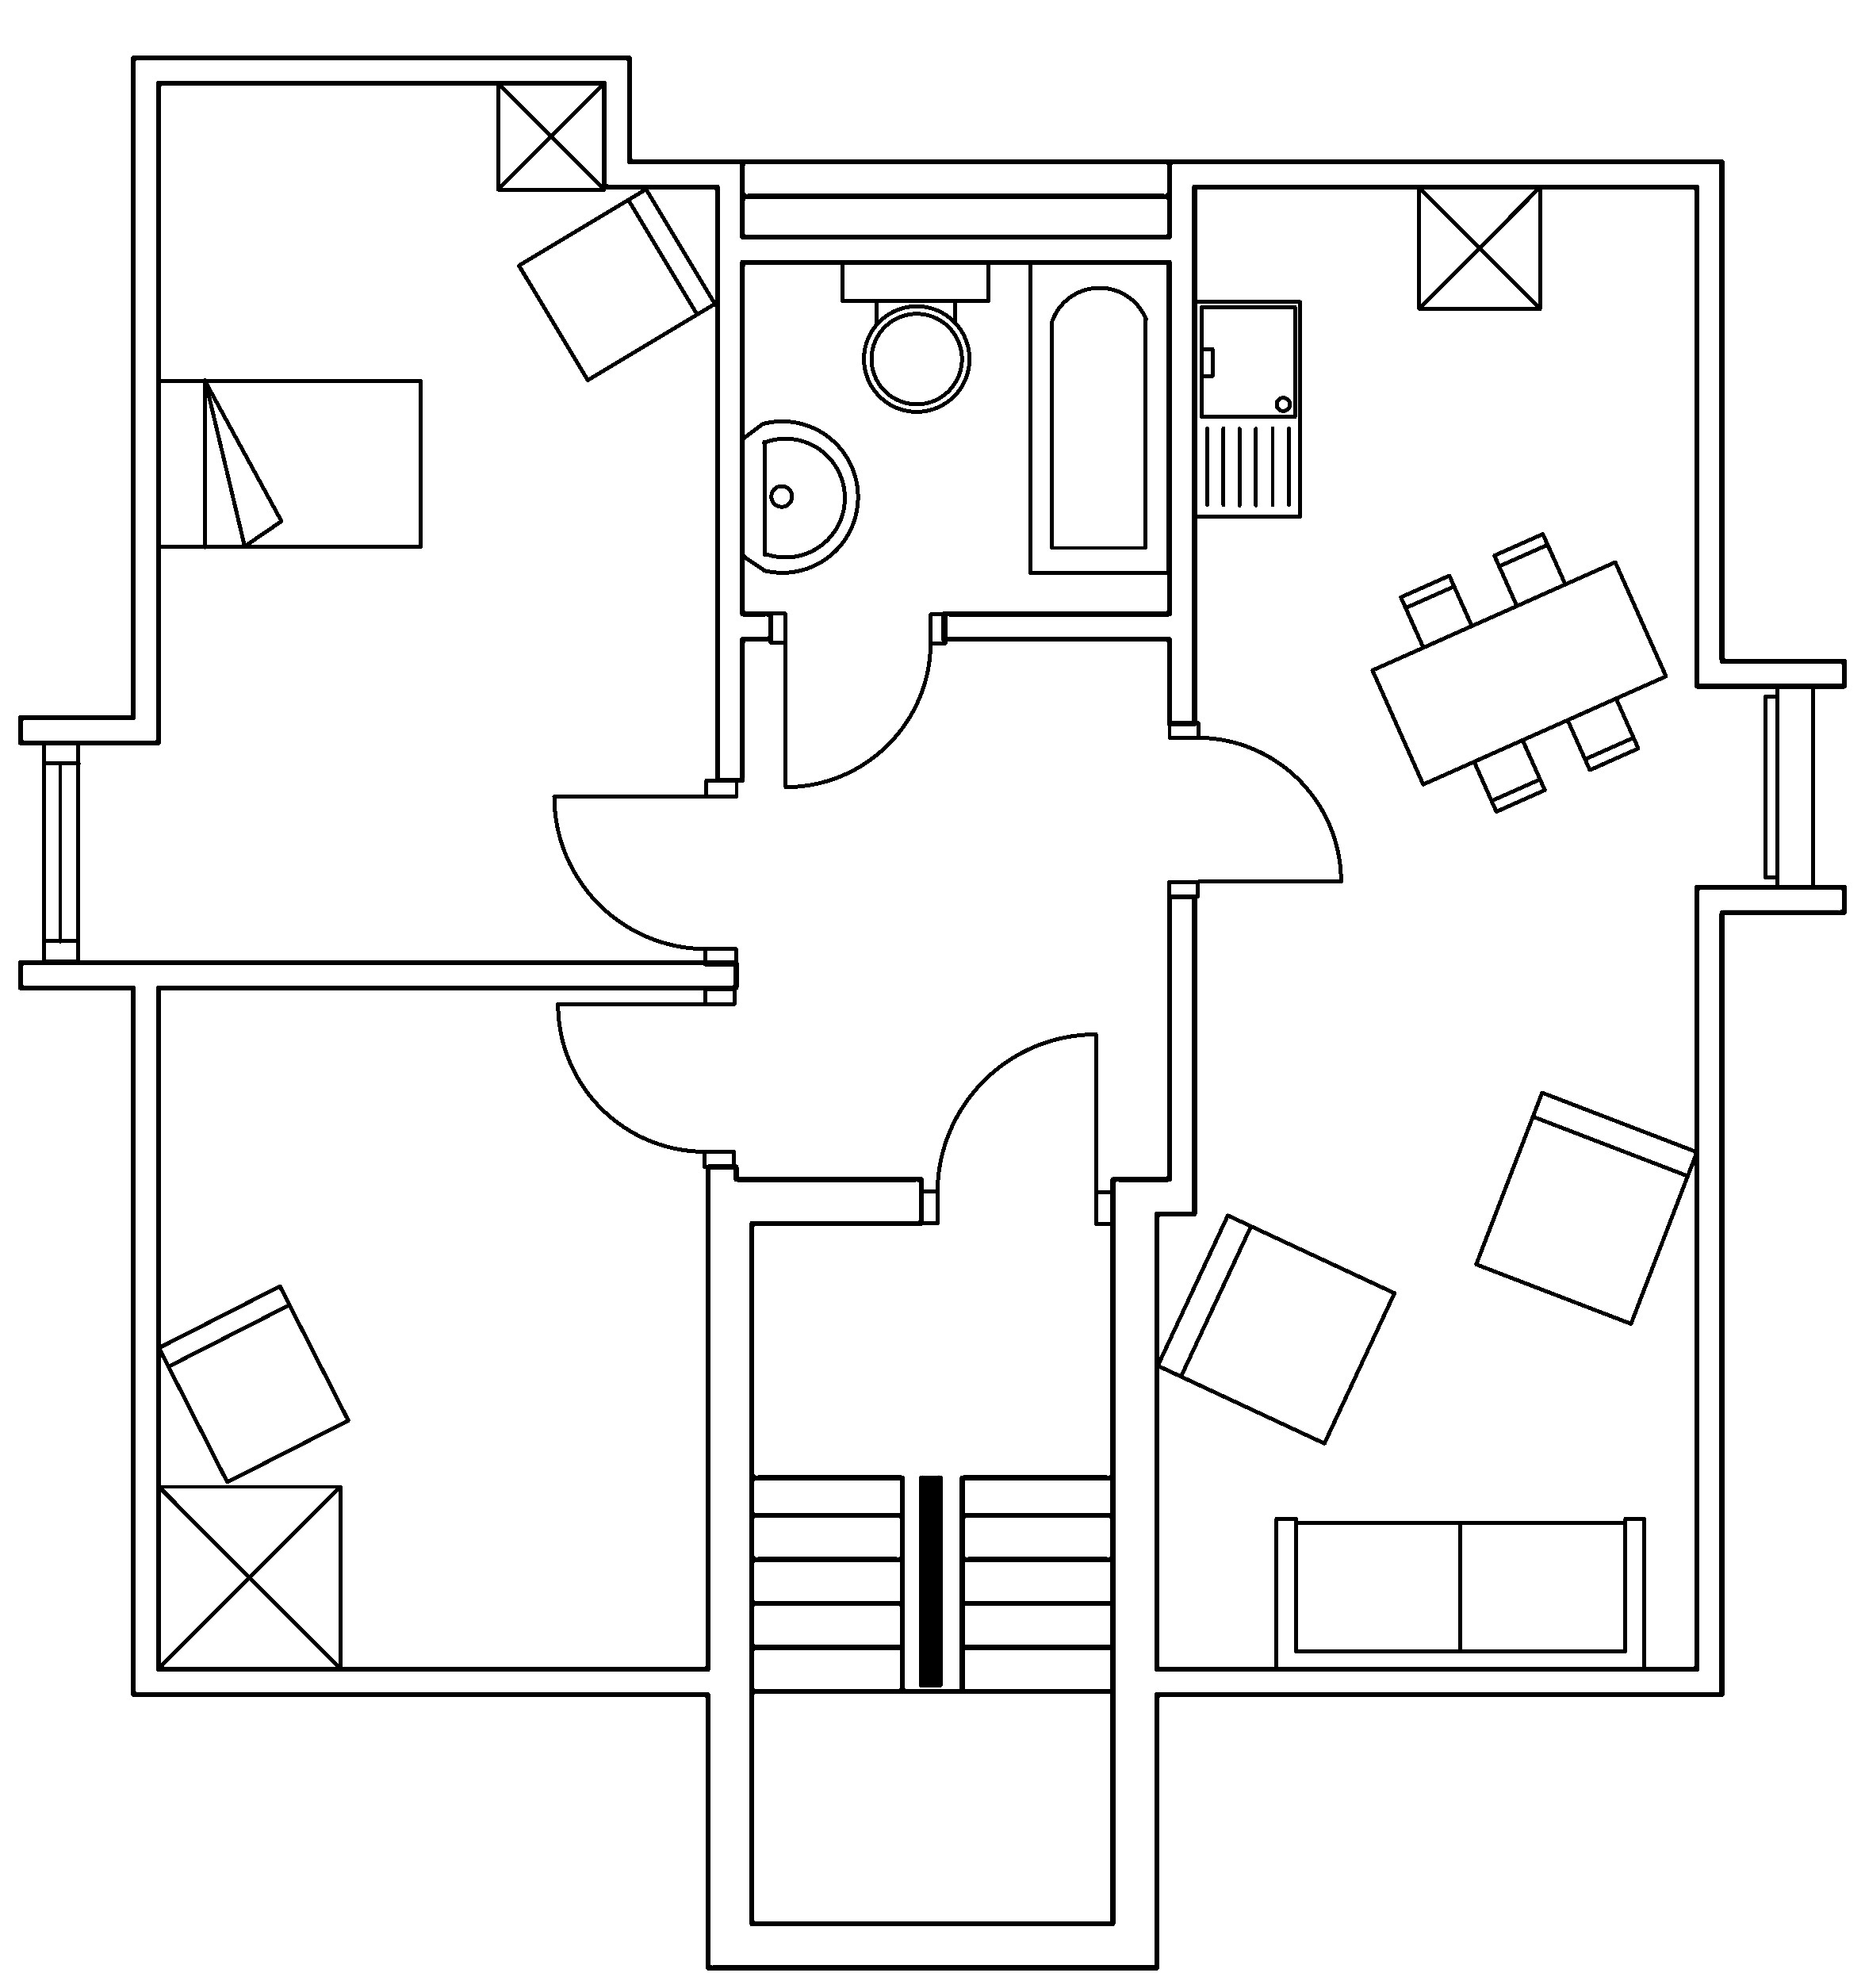bed: (154, 377, 424, 549)
coffee_table: (154, 1481, 342, 1671), (1416, 182, 1542, 310), (494, 79, 606, 191)
dining_table: (1369, 529, 1669, 813)
large_sink: (840, 258, 990, 412)
large_sofa: (1273, 1515, 1648, 1672)
sink: (1192, 298, 1302, 519)
small_sink: (740, 419, 859, 573)
small_sofa: (1153, 1211, 1397, 1446), (1472, 1089, 1698, 1325), (515, 186, 717, 382), (156, 1282, 351, 1485)
tub: (1027, 258, 1171, 575)
